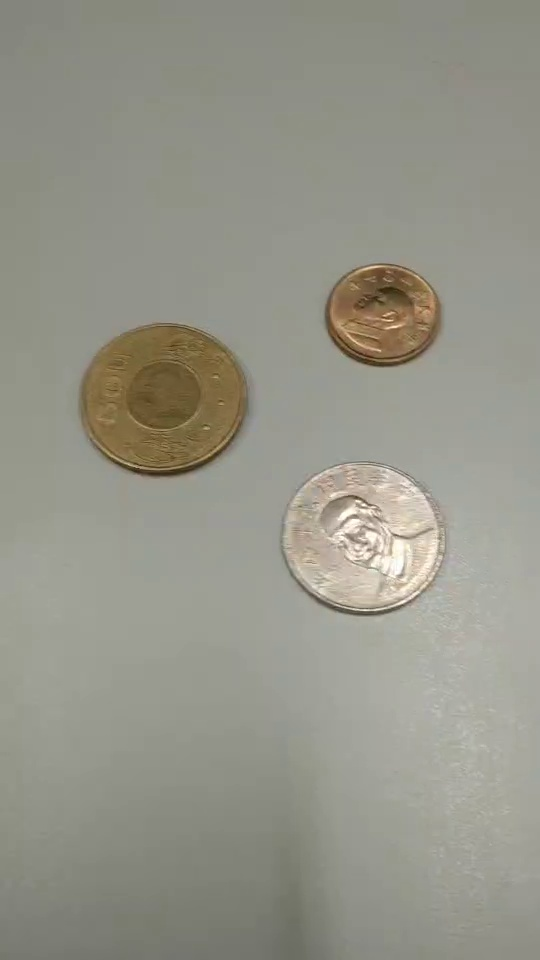NT$ 1: (325, 262, 442, 366)
NT$ 10: (280, 460, 448, 616)
NT$ 50: (82, 321, 250, 477)
